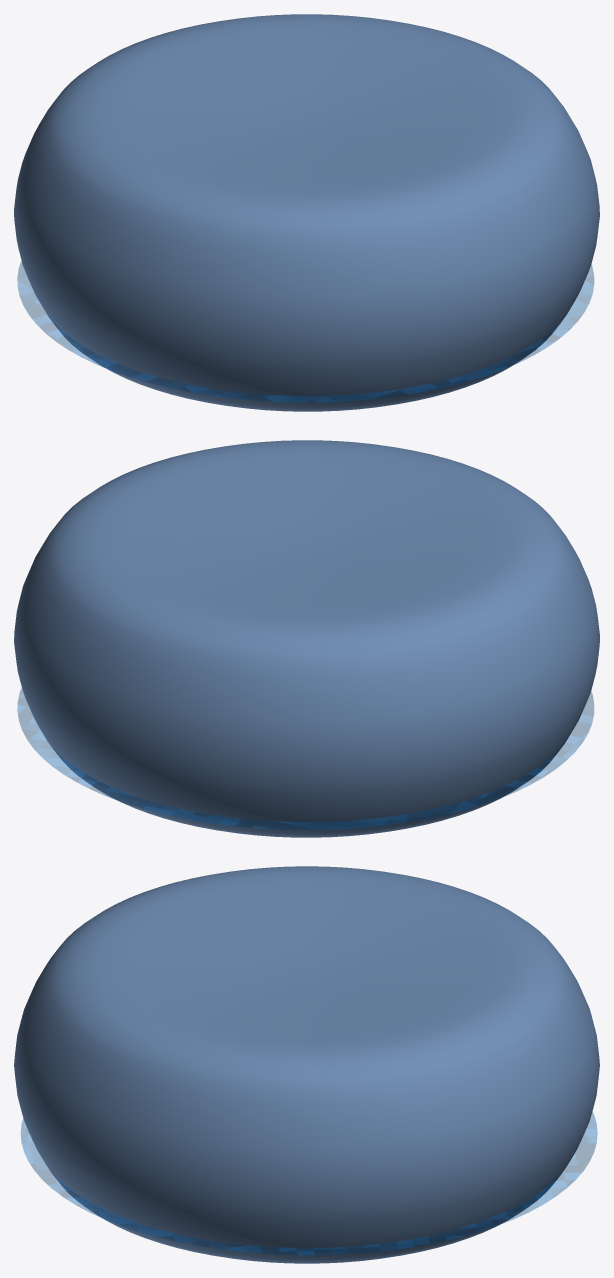
The model's file is F_SWCJ_WG.fbx.
3 renders of one model, top to bottom at view 1: azimuth 30°, elevation 25°; view 2: azimuth 150°, elevation 25°; view 3: azimuth 270°, elevation 25°, orthographic.
Visible parts, largest first — view 1: background, d1; view 2: background, d1; view 3: background, d1.
Part boxes in pixels (box(x1,y1,x2,y2)): background: box(14, 14, 599, 411); d1: box(17, 261, 593, 402); background: box(14, 440, 599, 837); d1: box(17, 688, 593, 829); background: box(14, 866, 599, 1263); d1: box(21, 1112, 597, 1254).
Bounding box in the file's own units: 708 × 275 × 708.
